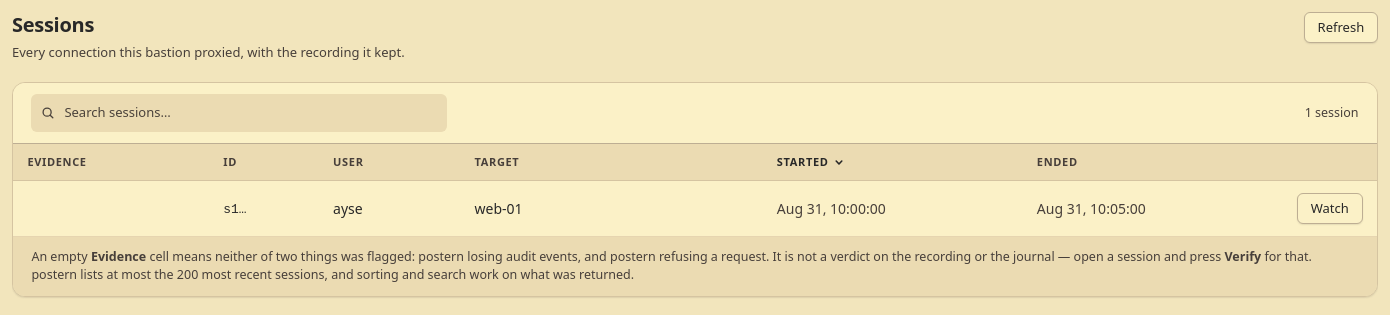
Scenario: kayıt izleme › dosya kayıpsa nereye bakılacağını söylüyor
Click the button "Watch": click(1330, 208) 1297,193 -> 1363,224
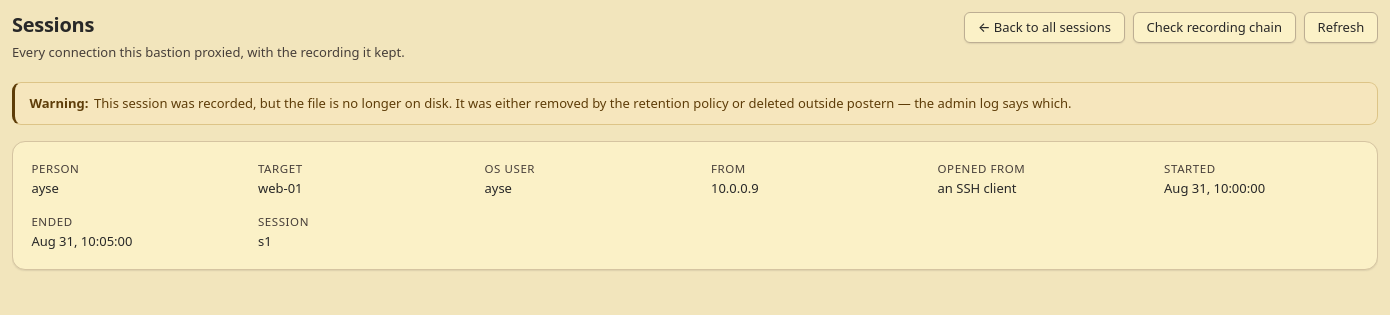
Now the text "admin log says which" is shown, box 94,94 -> 1072,112
